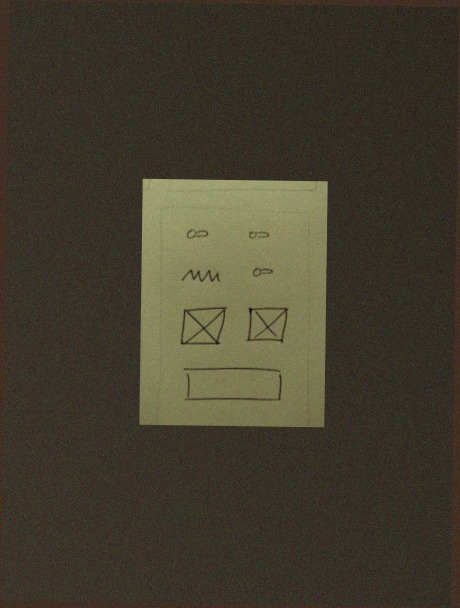image: (173, 304, 232, 350), (241, 304, 293, 348)
switch: (244, 227, 275, 247), (248, 264, 279, 282), (184, 225, 213, 242)
text_input: (174, 363, 290, 408), (177, 265, 228, 286)
